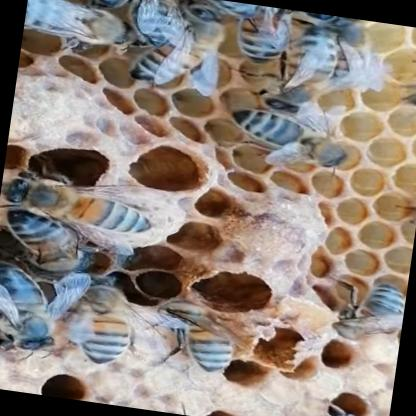bee: (42, 254, 287, 394), (23, 0, 403, 79), (0, 142, 184, 268), (0, 142, 189, 259), (213, 100, 416, 183), (20, 0, 176, 70), (0, 254, 76, 373), (9, 377, 238, 416), (338, 270, 408, 376), (279, 398, 389, 416)
